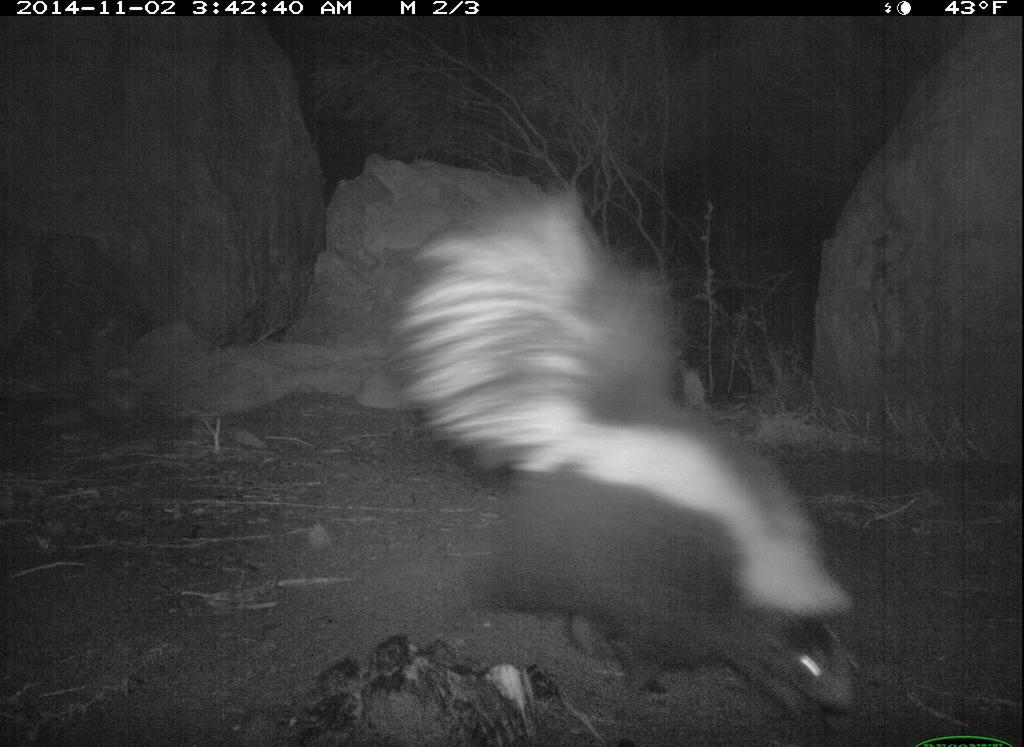skunk: (383, 181, 867, 745)
